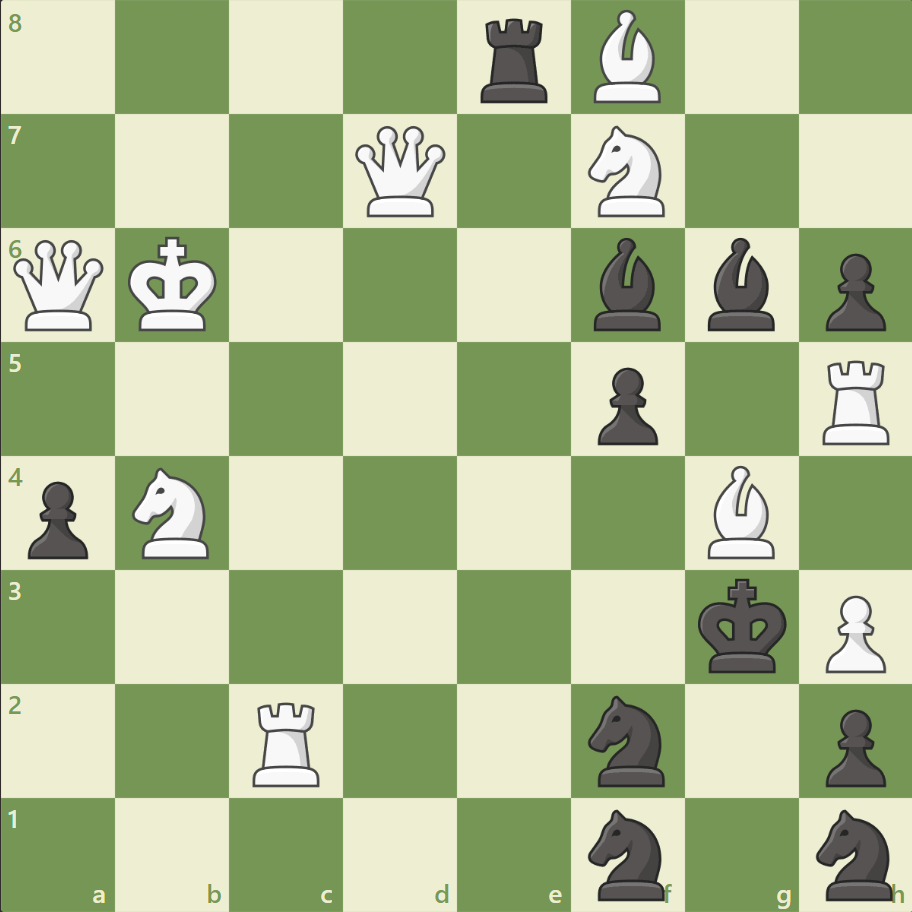B: (585, 6, 669, 109), (698, 460, 782, 563)
K: (124, 231, 224, 339)
N: (124, 461, 222, 564), (579, 121, 676, 223)
P: (815, 586, 889, 677)
Q: (351, 122, 450, 222), (10, 236, 109, 335)
R: (814, 352, 897, 449), (246, 693, 329, 790)
b: (585, 233, 669, 336), (698, 233, 782, 336)
k: (692, 571, 792, 679)
n: (579, 688, 676, 791), (579, 802, 676, 904), (806, 802, 903, 904)
p: (20, 473, 95, 564), (815, 246, 889, 337), (588, 359, 662, 450), (815, 700, 889, 791)
r: (473, 12, 556, 109)
